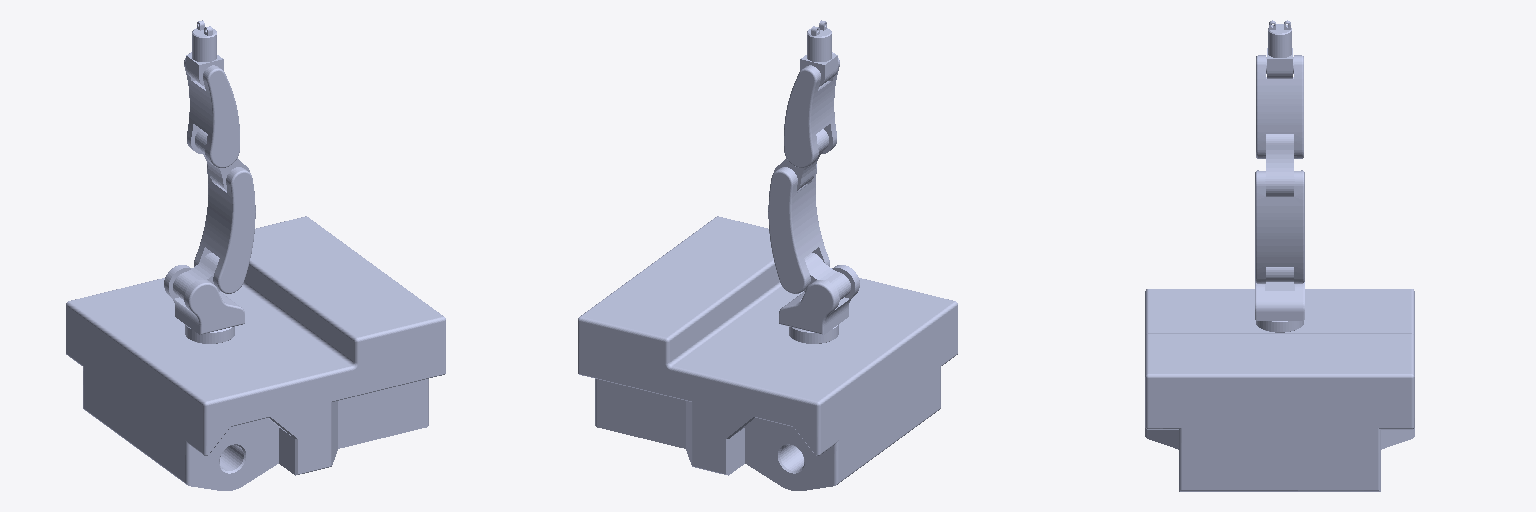
The robot description file, URDF, robot "robot_arm":
<?xml version="1.0" encoding="utf-8"?>
<!-- This URDF was automatically created by SolidWorks to URDF Exporter! Originally created by [author] ([email redacted]) 
     Commit Version: 1.6.0-1-g15f4949  Build Version: 1.6.7594.29634
     For more information, please see http://wiki.ros.org/sw_urdf_exporter -->
<robot
  name="robot_arm">
  <link
    name="base_link">
    <inertial>
      <origin
        xyz="0.0507897286232543 0.436442409160195 -3.92896700520566E-09"
        rpy="0 0 0" />
      <mass
        value="473.229494217205" />
      <inertia
        ixx="160.514734864114"
        ixy="-15.4185513941369"
        ixz="-3.82101723548316E-06"
        iyy="285.818254553099"
        iyz="-2.08542755229281E-06"
        izz="189.479114171076" />
    </inertial>
    <visual>
      <origin
        xyz="0 0 0"
        rpy="0 0 0" />
      <geometry>
        <mesh
          filename="package://robot_arm/meshes/base_link.STL" />
      </geometry>
      <material
        name="">
        <color
          rgba="0.792156862745098 0.819607843137255 0.933333333333333 1" />
      </material>
    </visual>
    <collision>
      <origin
        xyz="0 0 0"
        rpy="0 0 0" />
      <geometry>
        <mesh
          filename="package://robot_arm/meshes/base_link.STL" />
      </geometry>
    </collision>
  </link>
  <link
    name="rotating_arm">
    <inertial>
      <origin
        xyz="-8.00669290452874E-09 0.220582757890716 -0.0423974889335031"
        rpy="0 0 0" />
      <mass
        value="6.0730182118069" />
      <inertia
        ixx="0.150417694007526"
        ixy="-4.40604724929895E-09"
        ixz="3.00388694943259E-08"
        iyy="0.160364457024367"
        iyz="0.0353800394951801"
        izz="0.154043342259197" />
    </inertial>
    <visual>
      <origin
        xyz="0 0 0"
        rpy="0 0 0" />
      <geometry>
        <mesh
          filename="package://robot_arm/meshes/rotating_arm.STL" />
      </geometry>
      <material
        name="">
        <color
          rgba="0.792156862745098 0.819607843137255 0.933333333333333 1" />
      </material>
    </visual>
    <collision>
      <origin
        xyz="0 0 0"
        rpy="0 0 0" />
      <geometry>
        <mesh
          filename="package://robot_arm/meshes/rotating_arm.STL" />
      </geometry>
    </collision>
  </link>
  <joint
    name="rotating_arm_joint"
    type="revolute">
    <origin
      xyz="-0.37722 0 0.75"
      rpy="1.5708 0 1.5708" />
    <parent
      link="base_link" />
    <child
      link="rotating_arm" />
    <axis
      xyz="0 1 0" />
    <limit
      lower="-3.14"
      upper="3.14"
      effort="30"
      velocity="0.8" />
  </joint>
  <link
    name="extending_arm">
    <inertial>
      <origin
        xyz="-4.27793936461089E-16 -0.381891137777311 0.262623332241788"
        rpy="0 0 0" />
      <mass
        value="10.2462174046825" />
      <inertia
        ixx="0.825359728044462"
        ixy="-4.74693645664573E-16"
        ixz="8.41298629675562E-16"
        iyy="0.228952971983405"
        iyz="0.170803228096654"
        izz="0.830893220318168" />
    </inertial>
    <visual>
      <origin
        xyz="0 0 0"
        rpy="0 0 0" />
      <geometry>
        <mesh
          filename="package://robot_arm/meshes/extending_arm.STL" />
      </geometry>
      <material
        name="">
        <color
          rgba="0.792156862745098 0.819607843137255 0.933333333333333 1" />
      </material>
    </visual>
    <collision>
      <origin
        xyz="0 0 0"
        rpy="0 0 0" />
      <geometry>
        <mesh
          filename="package://robot_arm/meshes/extending_arm.STL" />
      </geometry>
    </collision>
  </link>
  <joint
    name="extending_arm_joint"
    type="revolute">
    <origin
      xyz="0 0.38 -0.1539"
      rpy="-0.016689 0 3.1416" />
    <parent
      link="rotating_arm" />
    <child
      link="extending_arm" />
    <axis
      xyz="1 0 0" />
    <limit
      lower="-1.57"
      upper="1.57"
      effort="30"
      velocity="0.8" />
  </joint>
  <link
    name="picking_arm">
    <inertial>
      <origin
        xyz="0.210685599639969 0.379226047227641 -4.91870553987825E-16"
        rpy="0 0 0" />
      <mass
        value="8.74716157874975" />
      <inertia
        ixx="0.615782700335979"
        ixy="-0.212752584628406"
        ixz="-1.31978014826064E-16"
        iyy="0.219378960733766"
        iyz="1.10030205238793E-15"
        izz="0.651168793348446" />
    </inertial>
    <visual>
      <origin
        xyz="0 0 0"
        rpy="0 0 0" />
      <geometry>
        <mesh
          filename="package://robot_arm/meshes/picking_arm.STL" />
      </geometry>
      <material
        name="">
        <color
          rgba="0.792156862745098 0.819607843137255 0.933333333333333 1" />
      </material>
    </visual>
    <collision>
      <origin
        xyz="0 0 0"
        rpy="0 0 0" />
      <geometry>
        <mesh
          filename="package://robot_arm/meshes/picking_arm.STL" />
      </geometry>
    </collision>
  </link>
  <joint
    name="picking_arm_joint"
    type="revolute">
    <origin
      xyz="0 -0.84976 0.30067"
      rpy="1.5708 1.3576 -1.5708" />
    <parent
      link="extending_arm" />
    <child
      link="picking_arm" />
    <axis
      xyz="0 0 1" />
    <limit
      lower="-1.57"
      upper="1.57"
      effort="30"
      velocity="0.8" />
  </joint>
  <link
    name="jaw_arm">
    <inertial>
      <origin
        xyz="0.101691353365546 -6.10622663543836E-16 -2.11130689265894E-15"
        rpy="0 0 0" />
      <mass
        value="1.78782932155198" />
      <inertia
        ixx="0.00968992120586809"
        ixy="-6.61984057590914E-17"
        ixz="1.40732437569899E-18"
        iyy="0.0276613343723937"
        iyz="3.49379032614783E-20"
        izz="0.0277379744815533" />
    </inertial>
    <visual>
      <origin
        xyz="0 0 0"
        rpy="0 0 0" />
      <geometry>
        <mesh
          filename="package://robot_arm/meshes/jaw_arm.STL" />
      </geometry>
      <material
        name="">
        <color
          rgba="0.792156862745098 0.819607843137255 0.933333333333333 1" />
      </material>
    </visual>
    <collision>
      <origin
        xyz="0 0 0"
        rpy="0 0 0" />
      <geometry>
        <mesh
          filename="package://robot_arm/meshes/jaw_arm.STL" />
      </geometry>
    </collision>
  </link>
  <joint
    name="jaw_arm_joint"
    type="revolute">
    <origin
      xyz="0.39805 0.79363 0"
      rpy="3.1416 0 1.3409" />
    <parent
      link="picking_arm" />
    <child
      link="jaw_arm" />
    <axis
      xyz="0 0 1" />
    <limit
      lower="-1.57"
      upper="1.57"
      effort="30"
      velocity="0.8" />
  </joint>
  <link
    name="jaw">
    <inertial>
      <origin
        xyz="-2.20127401862058E-08 0.327307984309611 -0.0384943409389779"
        rpy="0 0 0" />
      <mass
        value="5.47707679901732" />
      <inertia
        ixx="0.125903884920864"
        ixy="-3.46190928916787E-09"
        ixz="-1.77160379032553E-09"
        iyy="0.0351648457955596"
        iyz="-0.0266960896948912"
        izz="0.126769811317934" />
    </inertial>
    <visual>
      <origin
        xyz="0 0 0"
        rpy="0 0 0" />
      <geometry>
        <mesh
          filename="package://robot_arm/meshes/jaw.STL" />
      </geometry>
      <material
        name="">
        <color
          rgba="0.792156862745098 0.819607843137255 0.933333333333333 1" />
      </material>
    </visual>
    <collision>
      <origin
        xyz="0 0 0"
        rpy="0 0 0" />
      <geometry>
        <mesh
          filename="package://robot_arm/meshes/jaw.STL" />
      </geometry>
    </collision>
  </link>
  <joint
    name="jaw_joint"
    type="revolute">
    <origin
      xyz="0.335 0 0.055"
      rpy="-3.1211 0 1.5708" />
    <parent
      link="jaw_arm" />
    <child
      link="jaw" />
    <axis
      xyz="1 0 0" />
    <limit
      lower="-1.57"
      upper="1.57"
      effort="30"
      velocity="0.8" />
  </joint>
</robot>

--- What the picture shows (computed from the rendered views, not written in the file) ---
3 views of the same robot in one strip: view 1: azimuth 30°, elevation 25°; view 2: azimuth 150°, elevation 25°; view 3: azimuth 270°, elevation 25° (orthographic).
Robot: robot_arm — 6 links, 5 joints (5 revolute); root link base_link; default pose: all joints at 0.
Links seen in each view (by area): view 1: base_link, extending_arm, picking_arm, rotating_arm, jaw_arm; view 2: base_link, extending_arm, picking_arm, rotating_arm, jaw_arm; view 3: base_link, picking_arm, extending_arm, rotating_arm, jaw_arm.
Link boxes in pixels (x1,y1,x2,y2): base_link: (66, 216, 445, 490); extending_arm: (173, 164, 255, 299); picking_arm: (184, 52, 249, 190); rotating_arm: (164, 265, 244, 343); jaw_arm: (186, 20, 223, 86); base_link: (578, 216, 957, 490); extending_arm: (768, 164, 850, 299); picking_arm: (774, 52, 839, 190); rotating_arm: (779, 265, 859, 343); jaw_arm: (800, 20, 837, 86); base_link: (1145, 289, 1414, 491); picking_arm: (1256, 55, 1303, 196); extending_arm: (1255, 170, 1304, 283); rotating_arm: (1255, 282, 1304, 332); jaw_arm: (1266, 20, 1293, 78).
Bounding box of the posed robot: 2 × 2 × 3.32 m (x, y, z).
5 mesh visuals loaded from 6 distinct referenced files (5 binary STL); not drawn: 1 (reference not matched to a file when rendering).